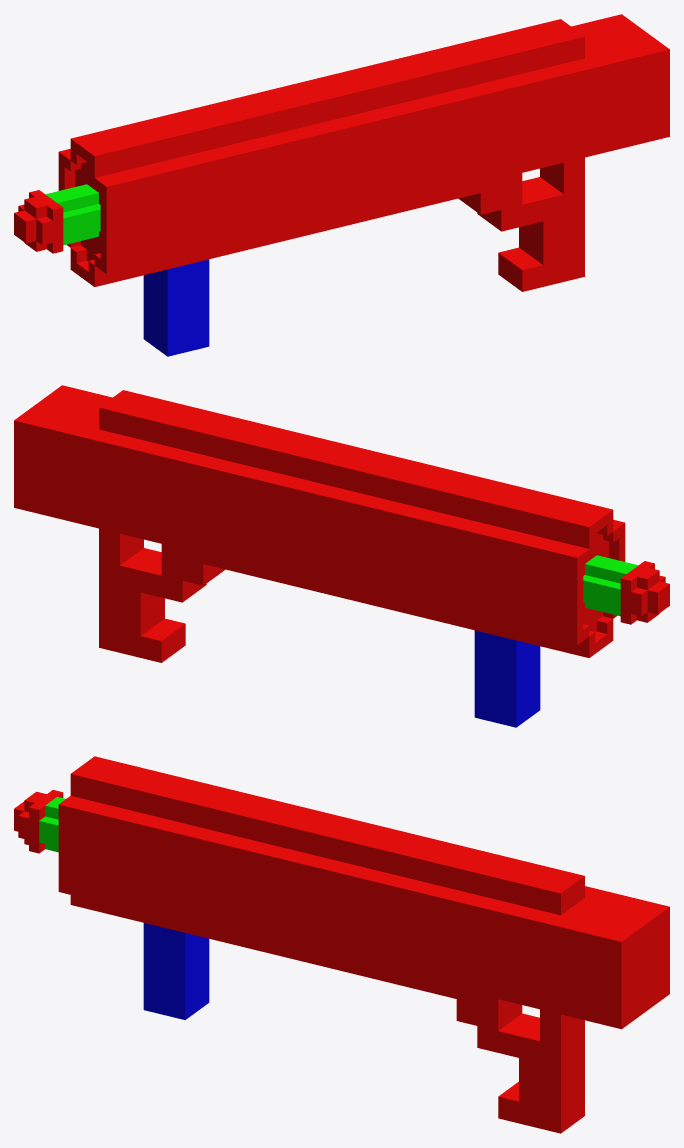
The model's file is RocketLauncher.fbx.
The picture shows the model from 3 angles, top to bottom: view 1: azimuth 30°, elevation 25°; view 2: azimuth 150°, elevation 25°; view 3: azimuth 330°, elevation 25°; orthographic projection.
Visible parts, largest first — view 1: RocketLauncher; view 2: RocketLauncher; view 3: RocketLauncher.
Boxes of the visible parts, x1,y1,x2,y2 form: RocketLauncher: (14, 14, 669, 356); RocketLauncher: (14, 385, 669, 727); RocketLauncher: (14, 756, 669, 1133).
Size of the model in its own units: 600 by 220 by 80.
Materials: 1 (1 with a texture image).
